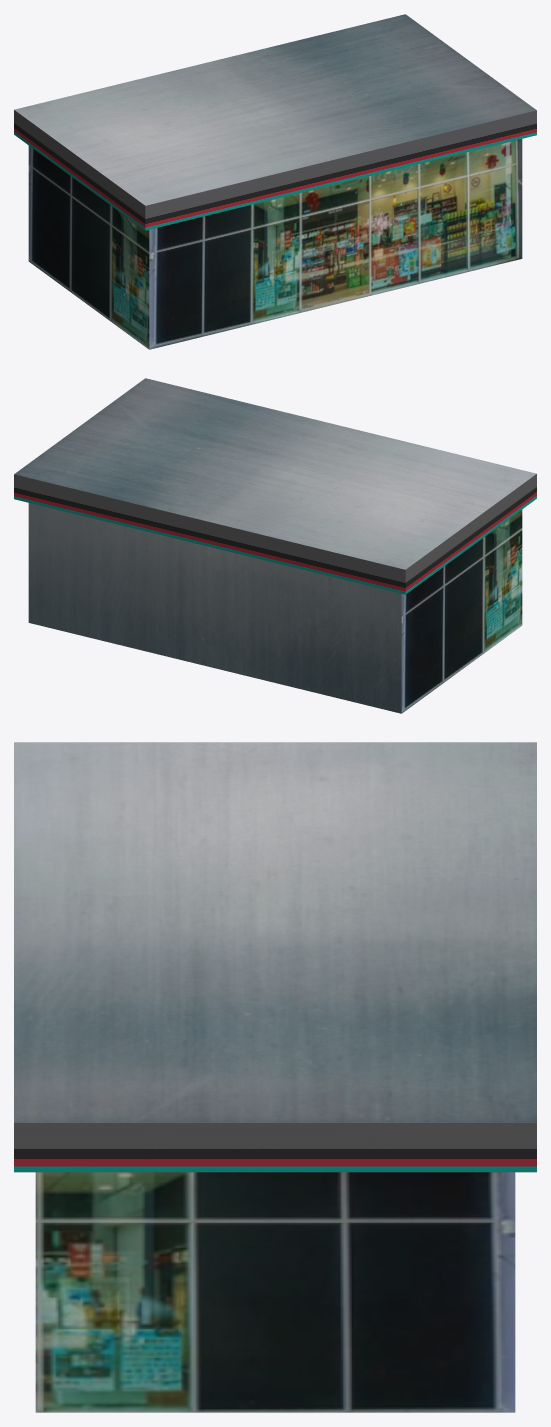
File: GAS_STATION_STORE.fbx
3 views of the same model, one above another, from view 1: azimuth 30°, elevation 25°; view 2: azimuth 150°, elevation 25°; view 3: azimuth 270°, elevation 25° (orthographic). The views are drawn at different scales.
Visible parts, largest first — view 1: GAS_STATION_STORE; view 2: GAS_STATION_STORE; view 3: GAS_STATION_STORE.
Part boxes in pixels (box(x1,y1,x2,y2)): GAS_STATION_STORE: box(14, 14, 536, 349); GAS_STATION_STORE: box(14, 378, 536, 713); GAS_STATION_STORE: box(14, 742, 536, 1412).
Bounding box in the file's own units: 1073 × 393 × 623.
